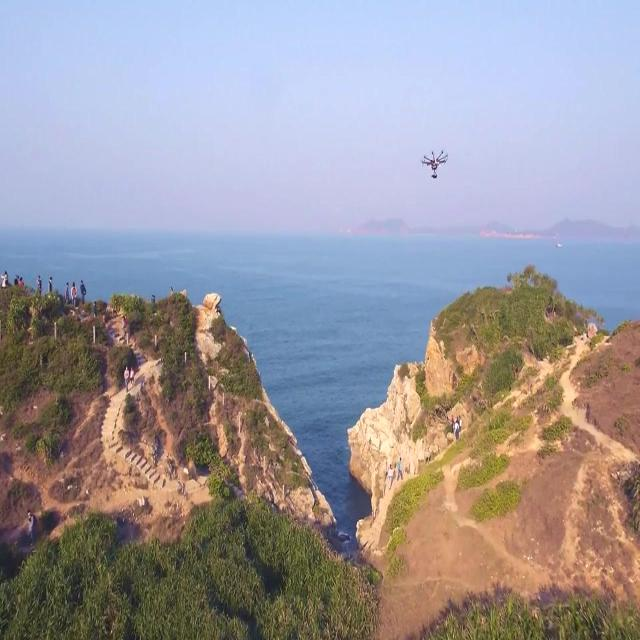drone: (420, 145, 450, 181)
